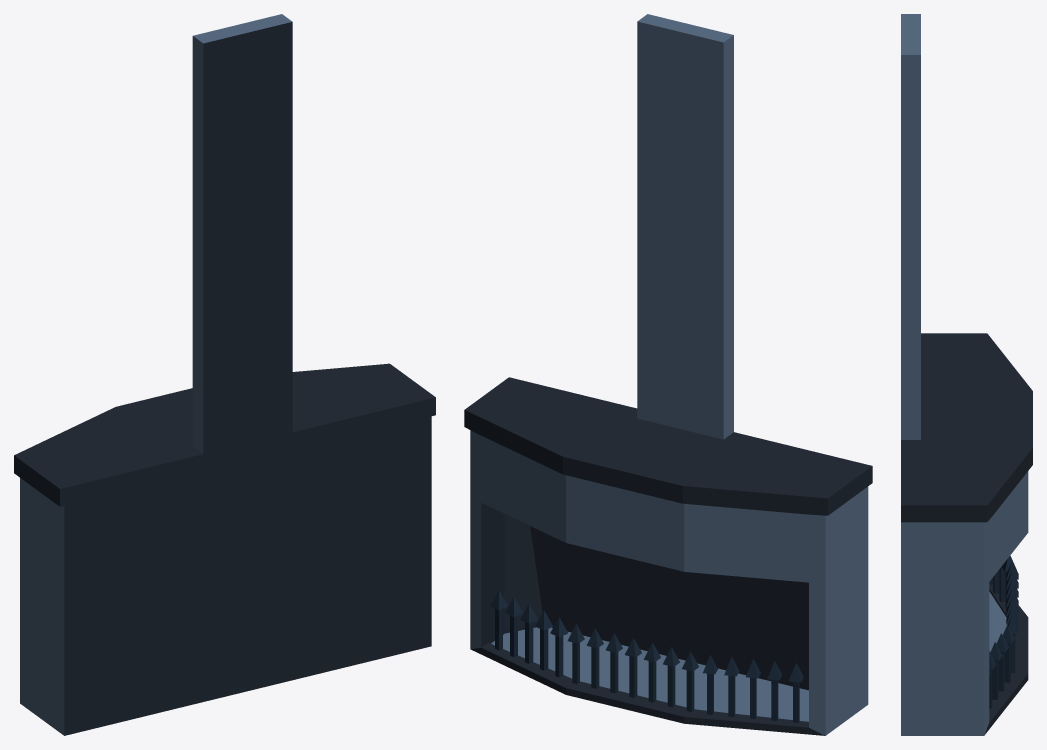
Rendered from TownOffice_Fireplace.fbx.
The picture shows the model from 3 angles, left to right: view 1: azimuth 30°, elevation 25°; view 2: azimuth 150°, elevation 25°; view 3: azimuth 270°, elevation 25°; orthographic projection. The views are drawn at different scales.
Parts seen in each view (by area): view 1: Cube.333; view 2: Cube.333; view 3: Cube.333.
Boxes of the visible parts, x1=… form: Cube.333: x1=14, y1=14, x2=435, y2=735; Cube.333: x1=464, y1=14, x2=872, y2=735; Cube.333: x1=901, y1=14, x2=1032, y2=735.
Bounding box in the file's own units: 153 × 256 × 49.51.
